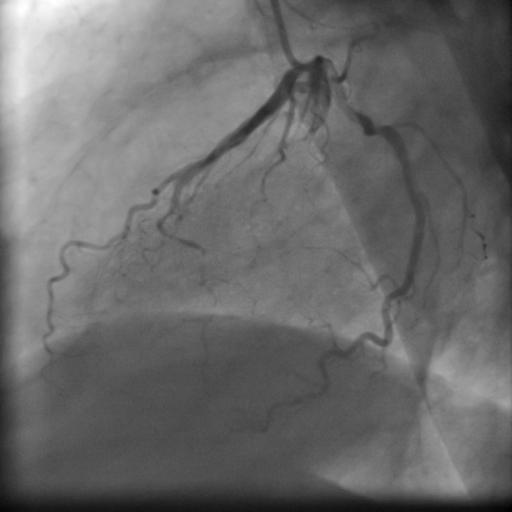Stenosis: (364, 109, 389, 147)
